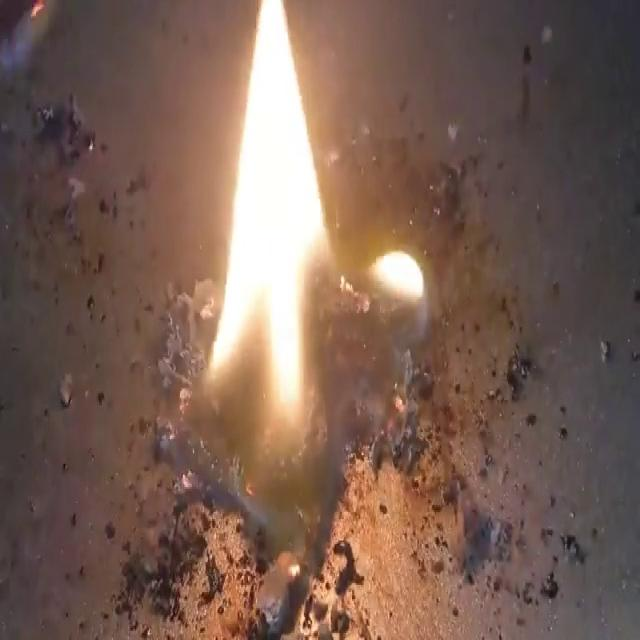Fire: (206, 4, 330, 438)
